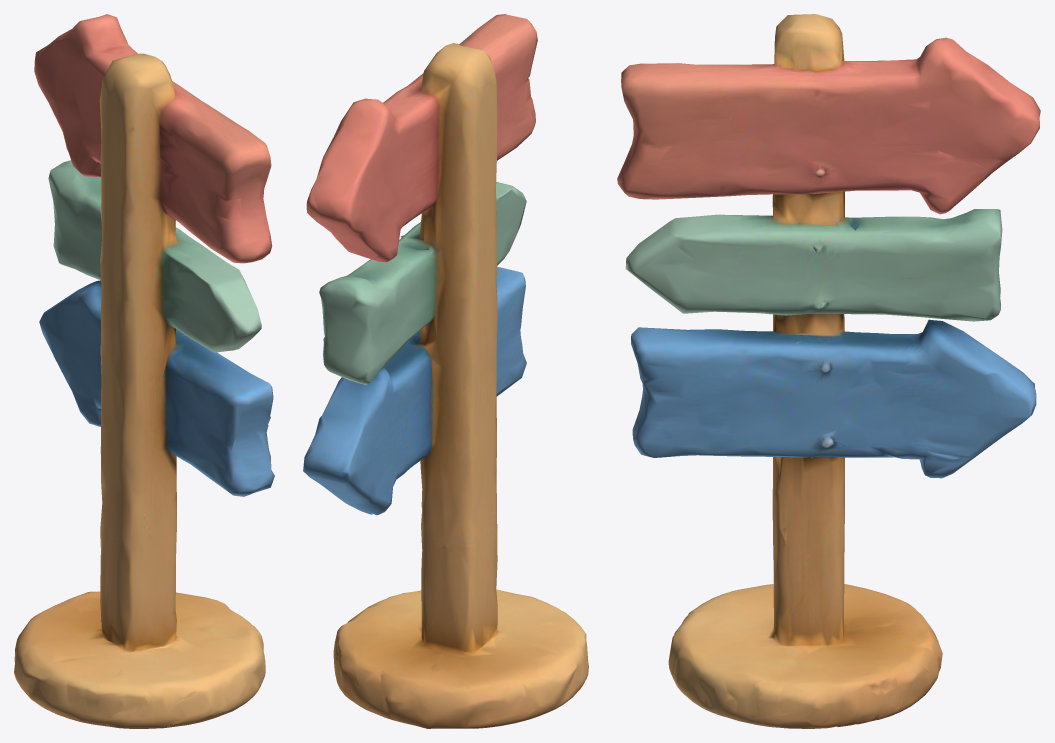
Rendered from signpost.glb.
The picture shows the model from 3 angles, left to right: view 1: azimuth 30°, elevation 25°; view 2: azimuth 150°, elevation 25°; view 3: azimuth 270°, elevation 25°; orthographic projection. The views are drawn at different scales.
Parts seen in each view (by area): view 1: tripo_node_dd94306b-f11f-49ac-a16e-8df85b7c89fb; view 2: tripo_node_dd94306b-f11f-49ac-a16e-8df85b7c89fb; view 3: tripo_node_dd94306b-f11f-49ac-a16e-8df85b7c89fb.
Boxes of the visible parts, bbox=[...] form: tripo_node_dd94306b-f11f-49ac-a16e-8df85b7c89fb: bbox=[14, 14, 274, 728]; tripo_node_dd94306b-f11f-49ac-a16e-8df85b7c89fb: bbox=[303, 14, 588, 728]; tripo_node_dd94306b-f11f-49ac-a16e-8df85b7c89fb: bbox=[617, 14, 1040, 728].
Size of the model in its own units: 0.3705 by 1 by 0.584.
Materials: 1 (1 with a texture image).
